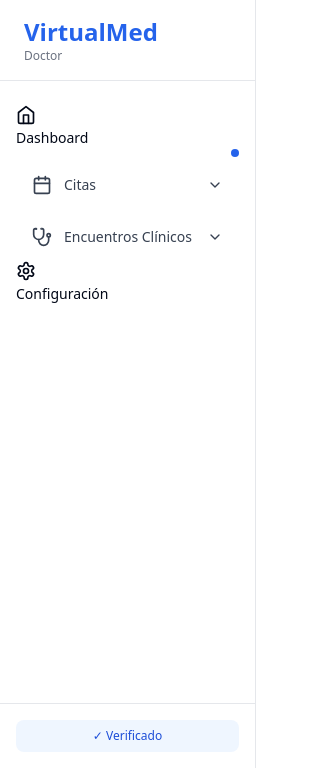
Scenario: Sidebar › muestra grupo de Citas para doctor y permite expandir subopciones
Step 1. Click the button "Citas" → (128, 185), box [16, 165, 239, 205]
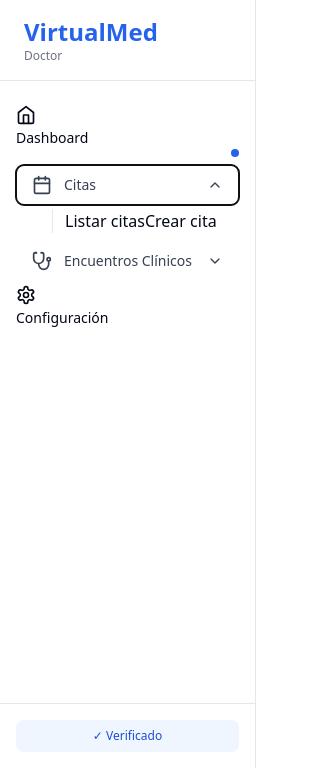
Expected: the link "Listar citas" is shown, [65, 210, 145, 232]
Expected: the button "Citas" is expanded, [16, 165, 239, 205]
